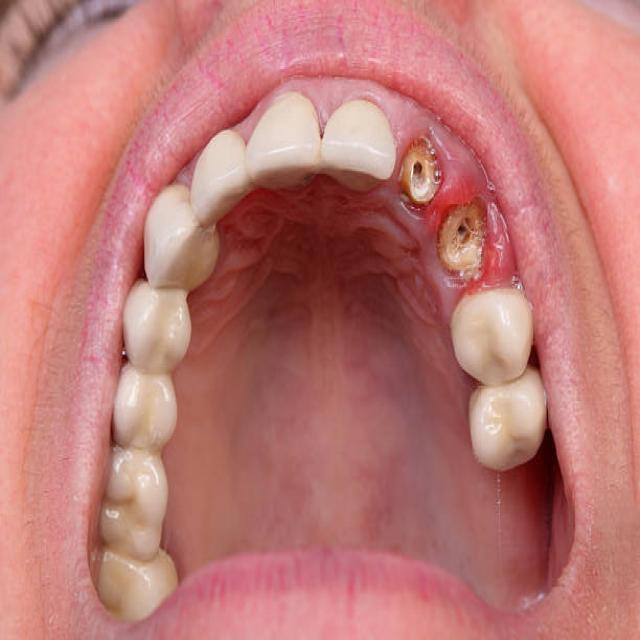caries: (440, 194, 498, 282), (398, 136, 444, 209)
